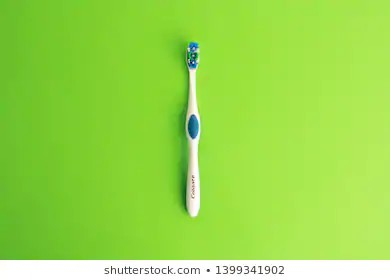toothbrush: (178, 38, 207, 220)
